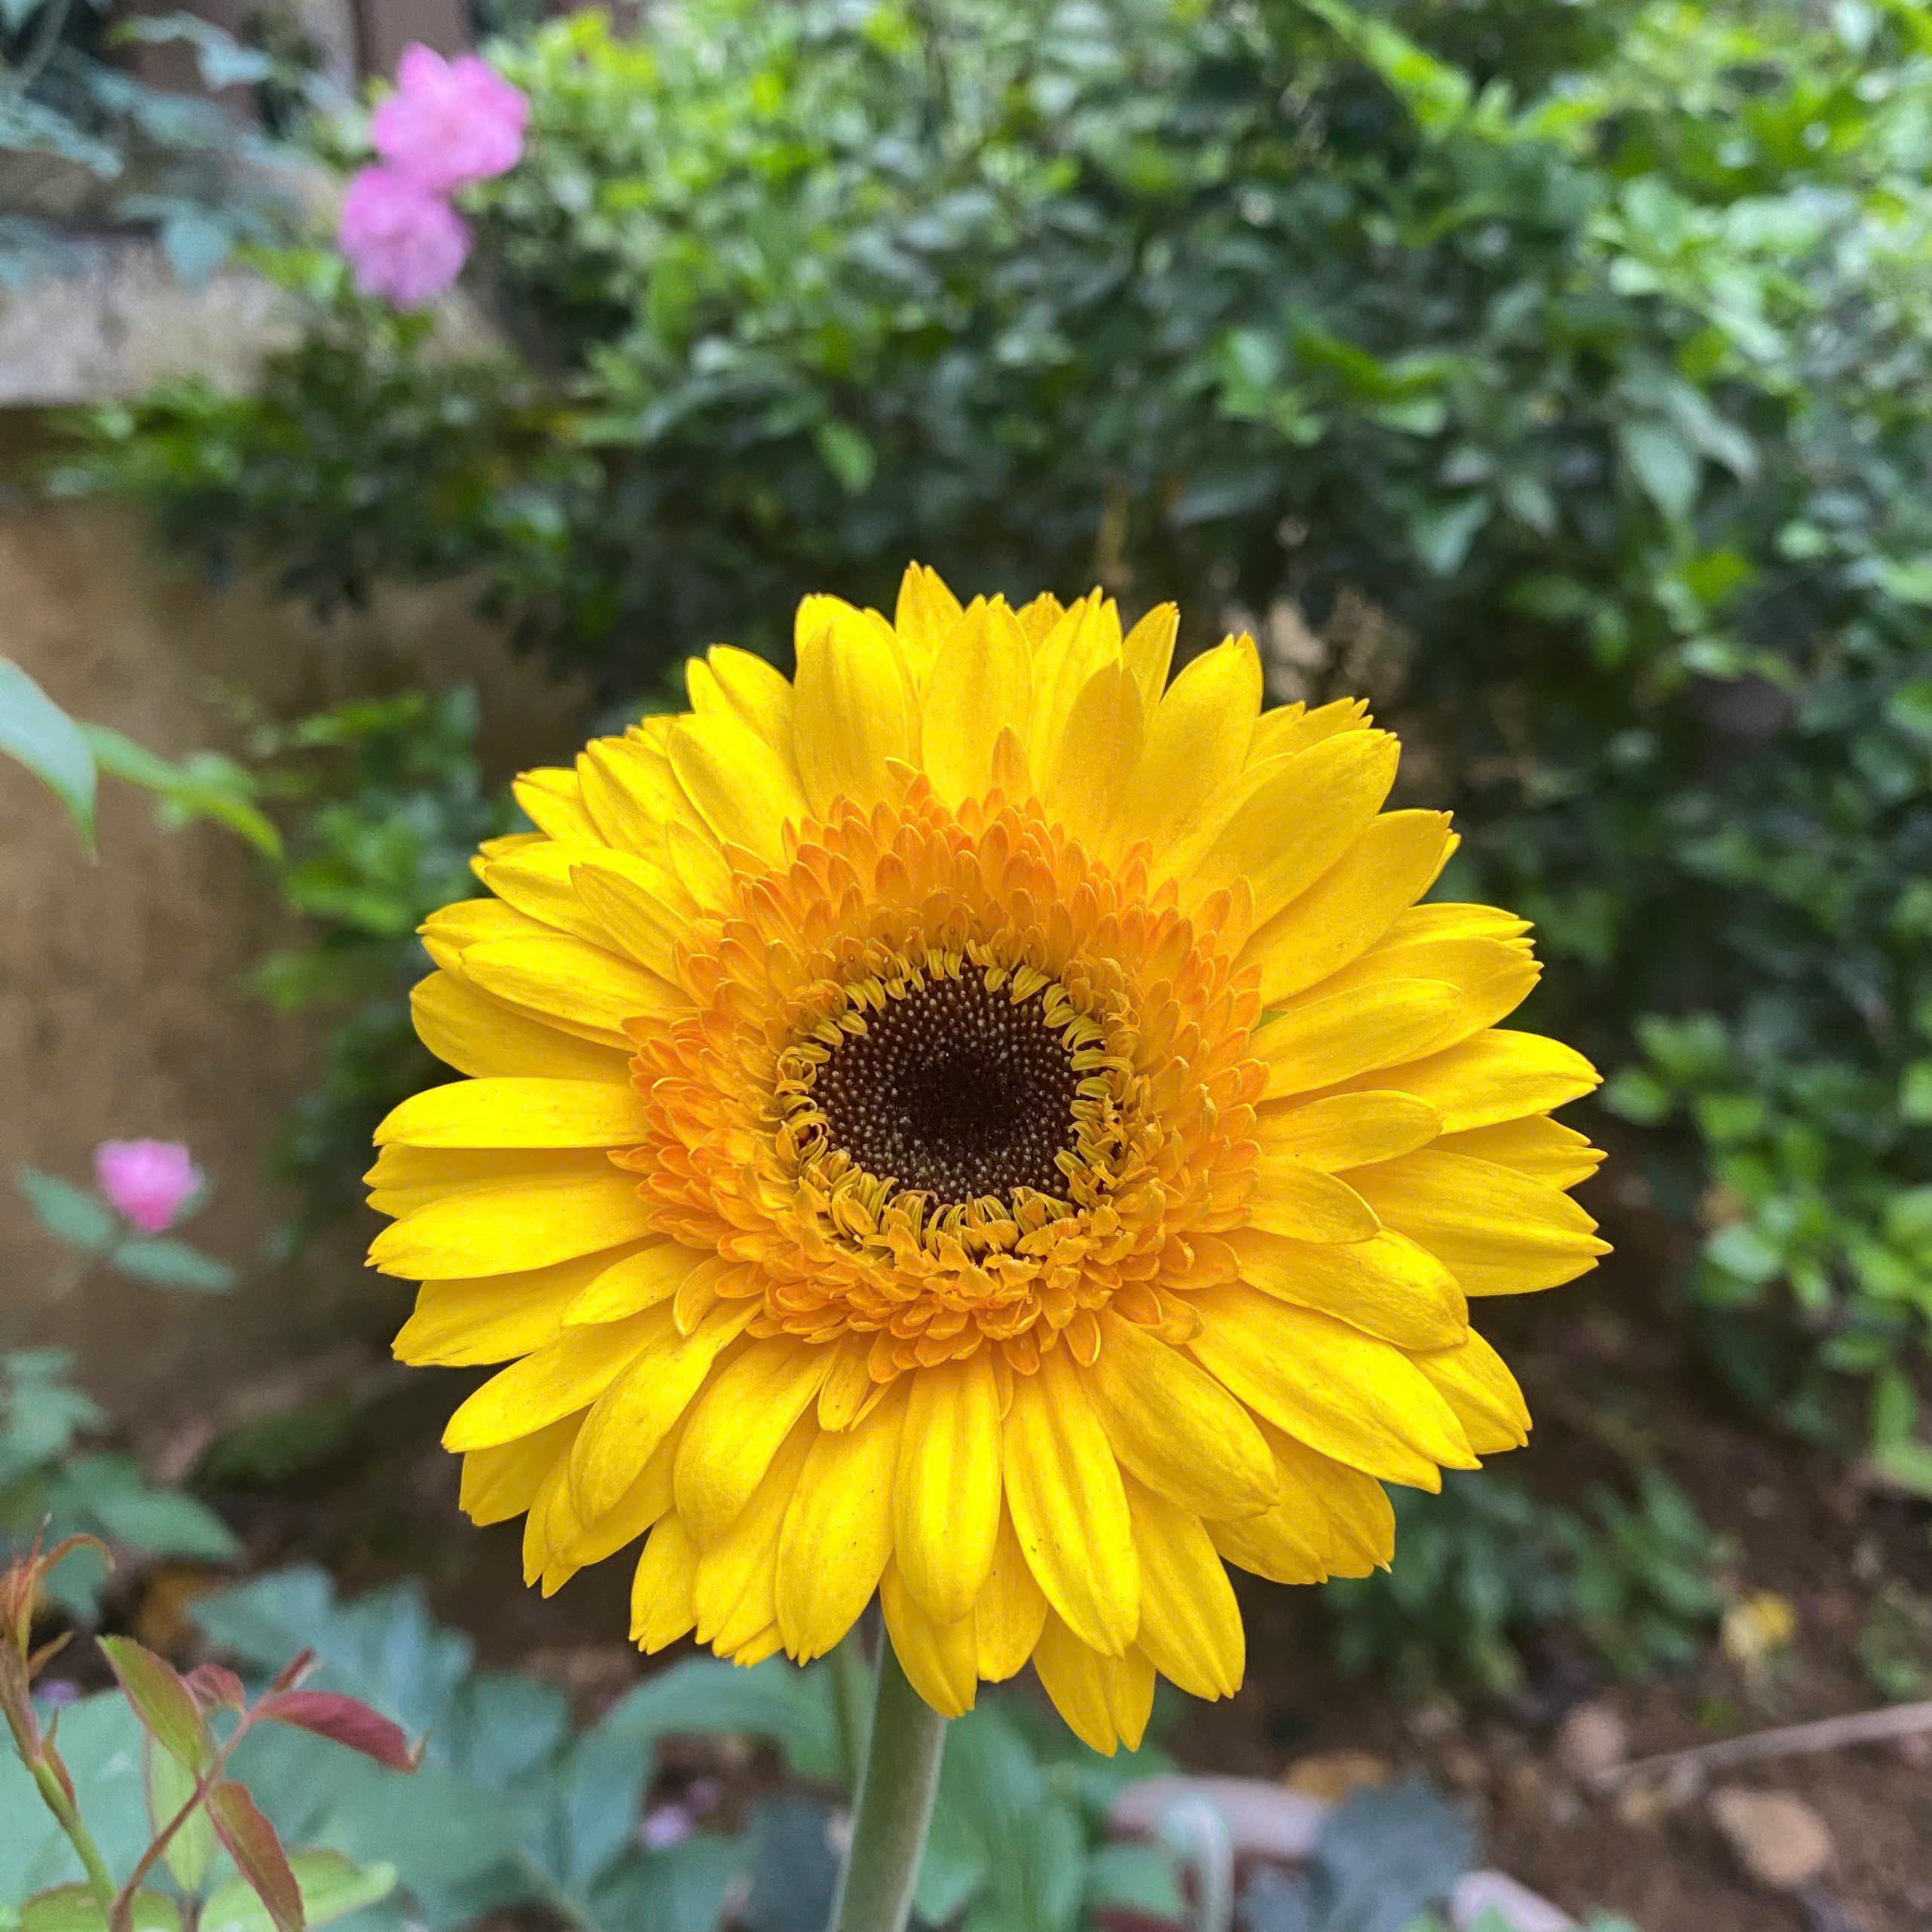hoa_huong_duong: (285, 495, 1683, 1766)
